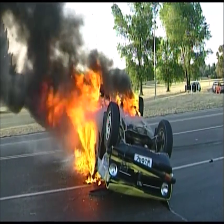fire_h: (41, 65, 108, 174), (123, 90, 142, 117)
fire_l: (85, 171, 101, 185), (109, 93, 122, 105)
